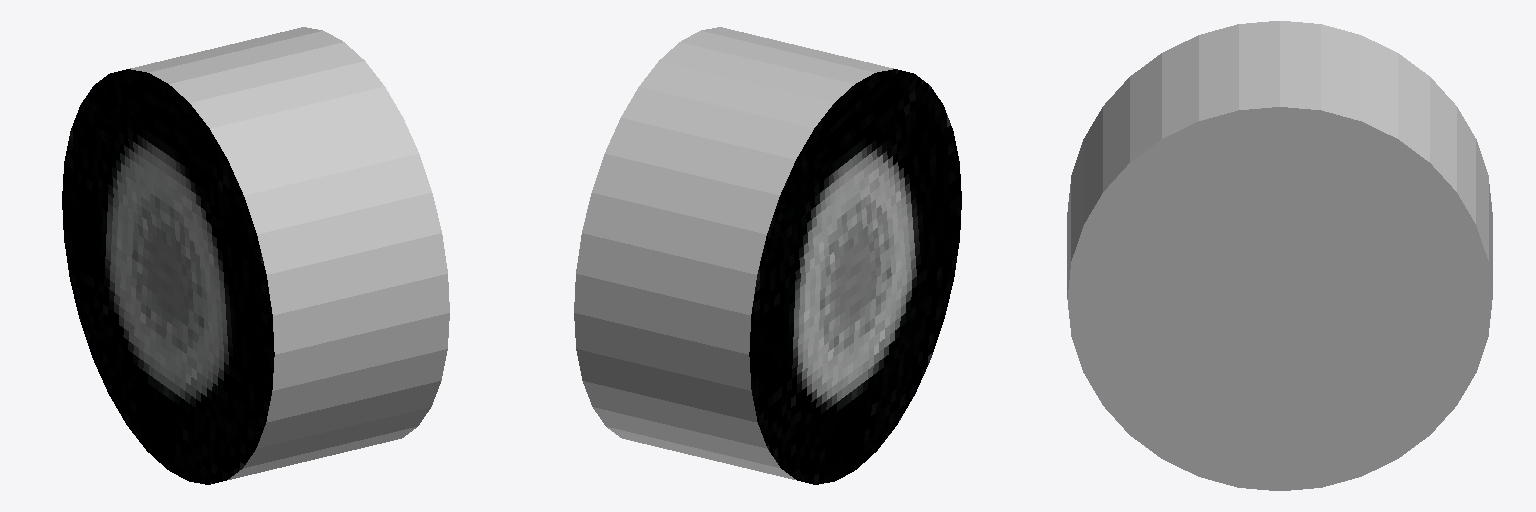
3 views of the same model, side by side, from view 1: azimuth 30°, elevation 25°; view 2: azimuth 150°, elevation 25°; view 3: azimuth 270°, elevation 25° (orthographic).
Visible parts, largest first — view 1: rueda11; view 2: rueda11; view 3: rueda11.
Boxes of the visible parts, x1=… form: rueda11: x1=62, y1=27, x2=449, y2=484; rueda11: x1=574, y1=27, x2=961, y2=484; rueda11: x1=1067, y1=21, x2=1492, y2=490.
Size of the model in its own units: 1.42 by 2.97 by 2.96.
Materials: 2 (1 with a texture image).